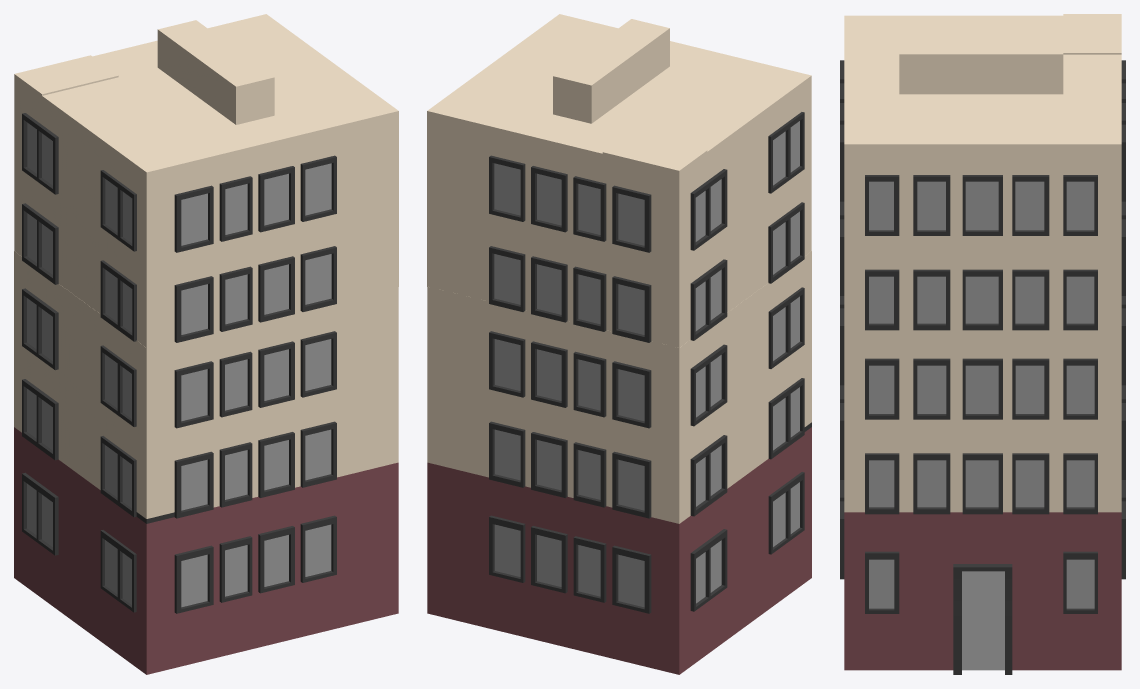
Rendered from building3_wanwan.fbx.
The picture shows the model from 3 angles, left to right: view 1: azimuth 30°, elevation 25°; view 2: azimuth 150°, elevation 25°; view 3: azimuth 270°, elevation 25°; orthographic projection. The views are drawn at different scales.
Visible parts, largest first — view 1: building_3; view 2: building_3; view 3: building_3.
Part boxes in pixels (x1,y1,x2,y2): building_3: (14,14,398,674); building_3: (427,14,811,674); building_3: (840,14,1125,674).
Bounding box in the file's own units: 15.36 × 30 × 13.73.
